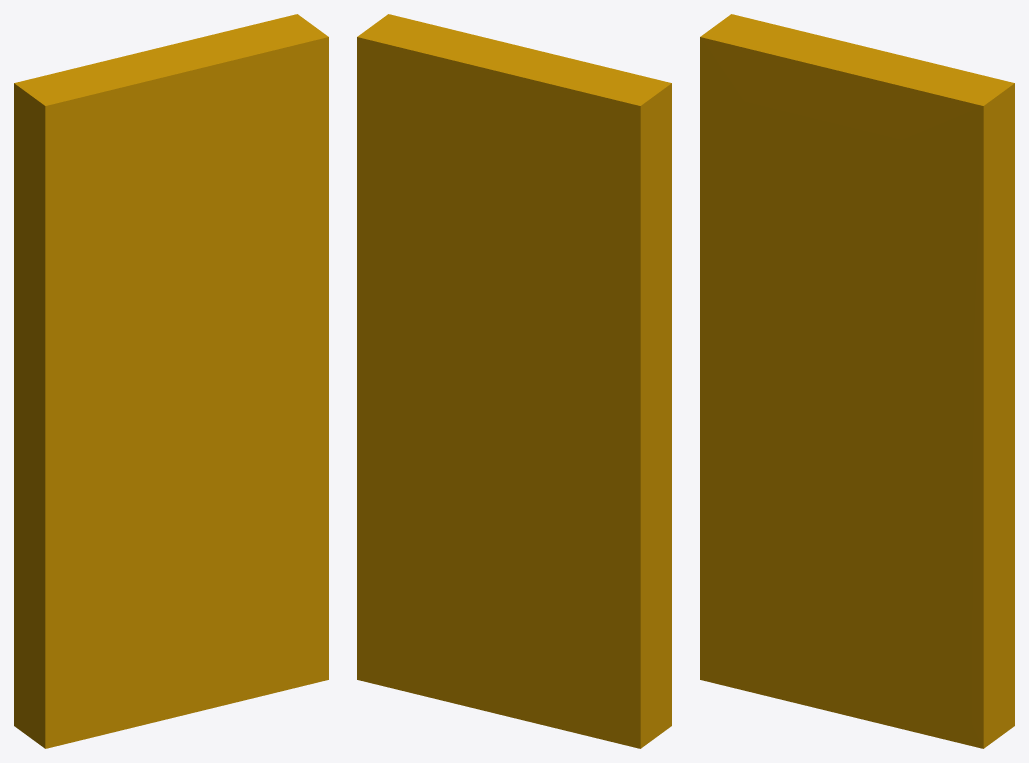
File: simple_example_hole_part_35.obj
The picture shows the model from 3 angles, left to right: view 1: azimuth 30°, elevation 25°; view 2: azimuth 150°, elevation 25°; view 3: azimuth 330°, elevation 25°; orthographic projection.
Bounding box in the file's own units: 2.61 × 5.65 × 0.5004.
